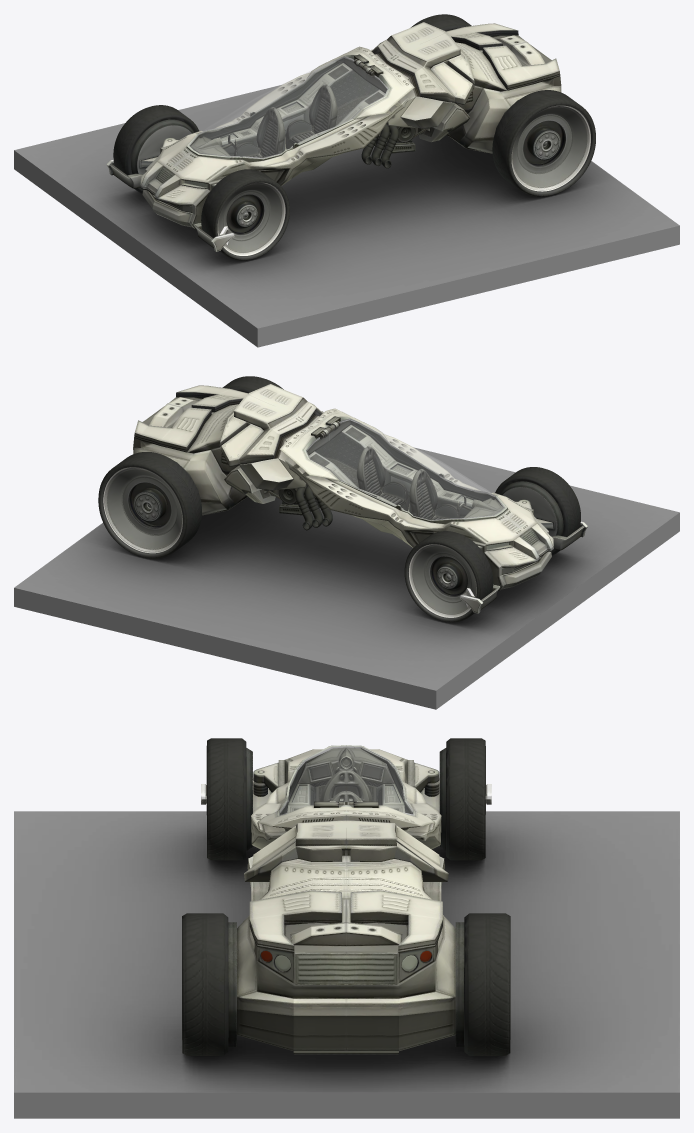
File: kelajak.glb
The picture shows the model from 3 angles, top to bottom: view 1: azimuth 30°, elevation 25°; view 2: azimuth 150°, elevation 25°; view 3: azimuth 270°, elevation 25°; orthographic projection. The views are drawn at different scales.
Visible parts, largest first — view 1: Plane.004, Speed_car.007, Speed_car.000, Cube.045, Cube.044; view 2: Plane.004, Speed_car.007, Speed_car.000, Cube.045, Cube.044; view 3: Plane.004, Speed_car.007, Cube.044, Speed_car.000, Cube.045.
Boxes of the visible parts, box(x1,y1,x2,y2) form: Plane.004: box(14, 85, 679, 347); Speed_car.007: box(140, 22, 561, 228); Speed_car.000: box(106, 105, 289, 260); Cube.045: box(189, 56, 387, 158); Cube.044: box(411, 14, 595, 196); Plane.004: box(14, 447, 679, 709); Speed_car.007: box(133, 384, 553, 590); Speed_car.000: box(404, 467, 587, 622); Cube.045: box(306, 418, 504, 520); Cube.044: box(98, 376, 283, 558); Plane.004: box(14, 811, 679, 1118); Speed_car.007: box(228, 745, 464, 1054); Cube.044: box(182, 913, 510, 1055); Speed_car.000: box(201, 738, 491, 860); Cube.045: box(279, 746, 414, 815).
Size of the model in its own units: 6.8 by 2.31 by 6.8.
4 materials, 2 textured.
